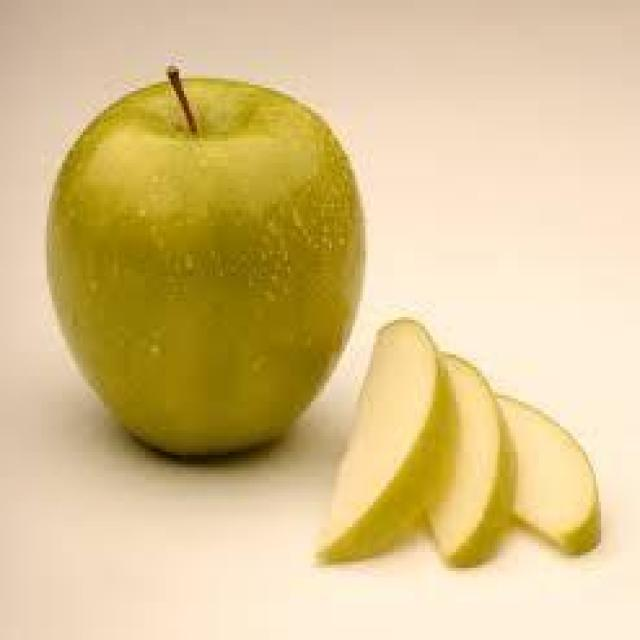maca: (44, 63, 365, 458), (314, 314, 601, 568)
